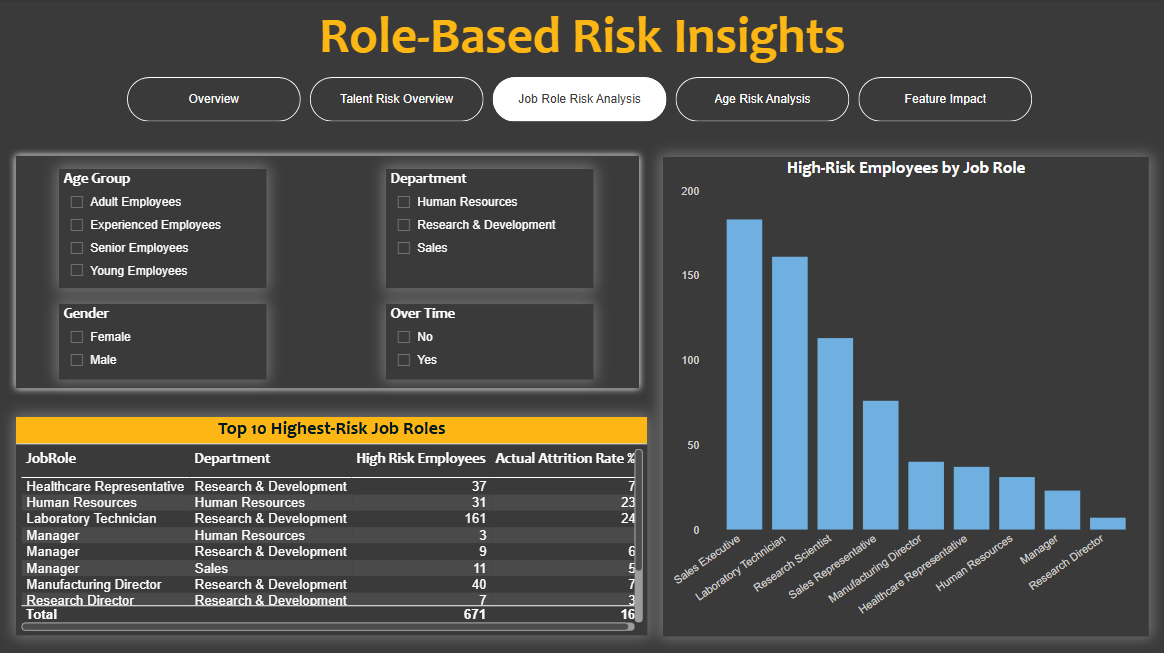

The dashboard page shown, as its layout file describes it:
{"tool":"powerbi","page":{"name":"Job Role Risk Analysis","canvas":[1280,720],"ordinal":2},"visuals":[{"type":"clusteredColumnChart","title":"High-Risk Employees by Job Role","fields":{"Category":["ibm_hr_dataset.JobRole"],"Y":["Measure_Table.High Risk Employees"]},"box":[728.9,173.3,534.4,526.5],"z":0},{"type":"tableEx","title":"Top 10 Highest-Risk Job Roles","fields":{"Values":["ibm_hr_dataset.JobRole","ibm_hr_dataset.Department","Measure_Table.High Risk Employees","Measure_Table.Actual Attrition Rate %"]},"box":[17.9,459.5,694.2,240.3],"z":1000},{"type":"pageNavigator","box":[139.6,85.7,999.2,49.5],"z":2000},{"type":"textbox","box":[0,0,1280,85.5],"z":3000},{"type":"shape","box":[8.9,164.3,702,272.8],"z":7000},{"type":"slicer","title":"Age Group","fields":{"Values":["ibm_hr_dataset.Age_Group"]},"box":[64.8,186.7,228.1,130.8],"z":8000},{"type":"slicer","title":"Gender","fields":{"Values":["ibm_hr_dataset.Gender"]},"box":[64.8,335.4,228.1,82.7],"z":8500},{"type":"slicer","title":"Over Time","fields":{"Values":["ibm_hr_dataset.OverTime"]},"box":[424.8,335.4,228.1,82.7],"z":8750},{"type":"slicer","title":"Department","fields":{"Values":["ibm_hr_dataset.Department"]},"box":[424.8,186.7,228.1,130.8],"z":9000}]}

Visuals, with their boxes in screenshot pixels (x1, y1, x2, y2), scaled from the page's 1280x720 canvas onto the 1164x653 screenshot:
"High-Risk Employees by Job Role" clusteredColumnChart: [663,157,1149,635]
"Top 10 Highest-Risk Job Roles" tableEx: [16,417,648,635]
pageNavigator: [127,78,1036,123]
textbox: [0,0,1163,78]
shape: [8,149,646,396]
"Age Group" slicer: [59,169,266,288]
"Gender" slicer: [59,304,266,379]
"Over Time" slicer: [386,304,594,379]
"Department" slicer: [386,169,594,288]
